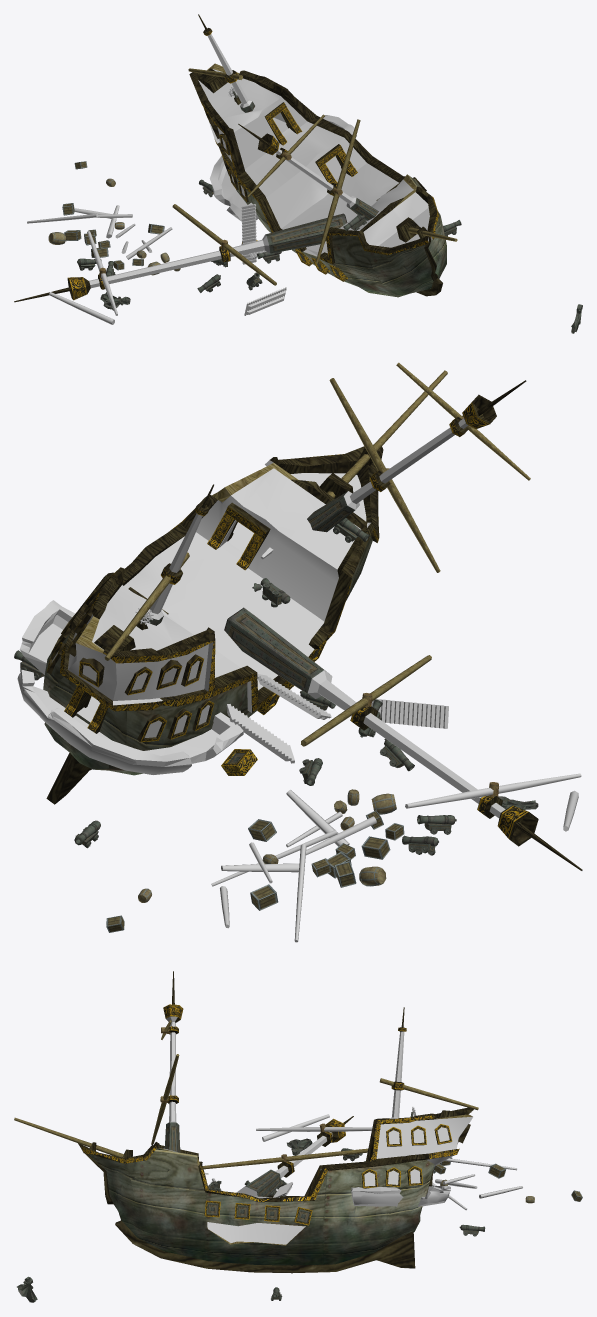
File: wrecked_ship.FBX
3 renders of one model, top to bottom at view 1: azimuth 30°, elevation 25°; view 2: azimuth 150°, elevation 25°; view 3: azimuth 270°, elevation 25°, orthographic. The views are drawn at different scales.
Visible parts, largest first — view 1: ship_base_04, ship_column_14, ship_crashed_back_01, ship_column_15, ship_column_16, ship_row_34, ship_row_31, ship_door_baseA_06, StraightStair118, ship_door_baseA_07, StraightStair117, ship_row_33 (+1 smaller); view 2: ship_base_04, ship_crashed_back_01, ship_column_14, ship_column_15, StraightStair117, ship_door_baseA_08, ship_row_34, ship_column_16, StraightStair118, ship_row_32, ship_row_31, ship_row_30 (+4 smaller); view 3: ship_base_04, ship_column_14, ship_column_15, ship_crashed_back_01, ship_row_31, ship_column_16, ship_row_32, ship_row_30, ship_row_34.
Boxes of the visible parts, left/top/right/bottom form: ship_base_04: left=189, top=63, right=446, bottom=297; ship_column_14: left=14, top=213, right=347, bottom=302; ship_crashed_back_01: left=209, top=115, right=356, bottom=221; ship_column_15: left=238, top=123, right=378, bottom=220; ship_column_16: left=198, top=14, right=254, bottom=112; ship_row_34: left=315, top=119, right=360, bottom=263; ship_row_31: left=172, top=204, right=276, bottom=285; ship_door_baseA_06: left=315, top=144, right=357, bottom=184; StraightStair118: left=241, top=204, right=256, bottom=264; ship_door_baseA_07: left=264, top=102, right=302, bottom=145; StraightStair117: left=244, top=287, right=286, bottom=315; ship_row_33: left=247, top=114, right=324, bottom=197; ship_base_04: left=43, top=446, right=383, bottom=804; ship_crashed_back_01: left=17, top=600, right=243, bottom=774; ship_column_14: left=224, top=607, right=582, bottom=870; ship_column_15: left=307, top=380, right=526, bottom=532; StraightStair117: left=371, top=699, right=448, bottom=728; ship_door_baseA_08: left=207, top=502, right=270, bottom=570; ship_row_34: left=329, top=378, right=440, bottom=572; ship_column_16: left=99, top=484, right=214, bottom=702; StraightStair118: left=226, top=704, right=294, bottom=763; ship_row_32: left=405, top=773, right=581, bottom=808; ship_row_31: left=301, top=655, right=431, bottom=746; ship_row_30: left=327, top=370, right=447, bottom=498; ship_base_04: left=78, top=1107, right=473, bottom=1273; ship_column_14: left=237, top=1116, right=353, bottom=1197; ship_column_15: left=163, top=971, right=183, bottom=1152; ship_crashed_back_01: left=351, top=1186, right=450, bottom=1206; ship_row_31: left=202, top=1148, right=368, bottom=1169; ship_column_16: left=390, top=1007, right=406, bottom=1118; ship_row_32: left=256, top=1127, right=372, bottom=1131; ship_row_30: left=14, top=1117, right=123, bottom=1157; ship_row_34: left=151, top=1054, right=179, bottom=1144.
Bounding box in the file's own units: 63.73 × 34.22 × 80.88.
